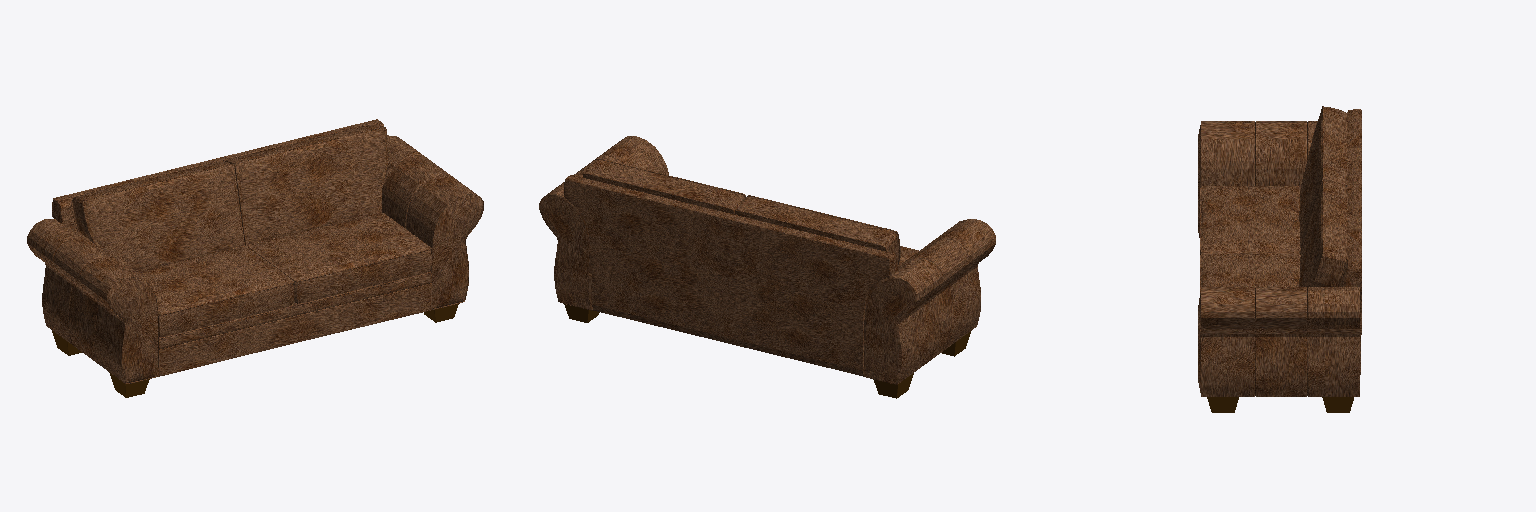
3 renders of one model, left to right at view 1: azimuth 30°, elevation 25°; view 2: azimuth 150°, elevation 25°; view 3: azimuth 270°, elevation 25°, orthographic.
Parts seen in each view (by area): view 1: Plane_5, 4, 3, 1, 2; view 2: 1, Plane_5, 4, 2; view 3: Plane_5, 3, 4, 1, 2.
Boxes of the visible parts, <box> form: Plane_5: <box>27,135,483,383</box>; 4: <box>71,124,388,272</box>; 3: <box>135,213,431,338</box>; 1: <box>52,119,383,229</box>; 2: <box>52,304,458,397</box>; 1: <box>564,175,897,376</box>; Plane_5: <box>539,136,995,384</box>; 4: <box>583,158,900,264</box>; 2: <box>564,304,970,398</box>; Plane_5: <box>1198,121,1359,396</box>; 3: <box>1200,186,1300,292</box>; 4: <box>1299,106,1347,287</box>; 1: <box>1340,109,1361,374</box>; 2: <box>1207,397,1353,412</box>.
Size of the model in its own units: 204 by 80 by 76.9.
Materials: 2 (1 with a texture image).